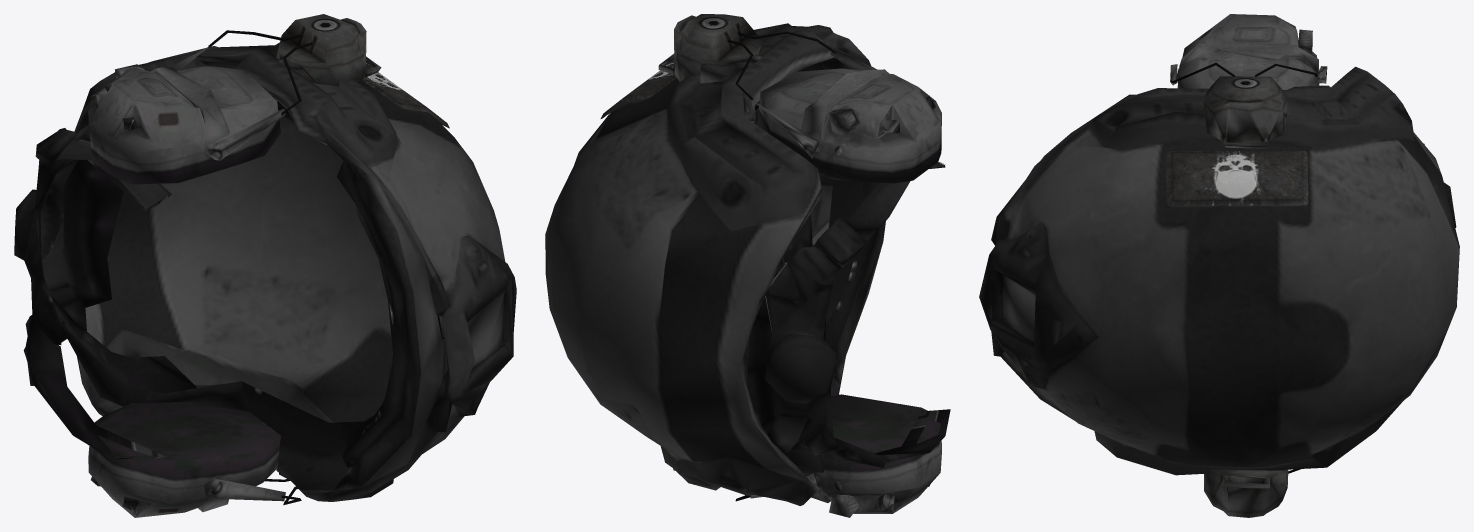
The model's file is F_TaskForceHelmet.fbx.
3 renders of one model, left to right at view 1: azimuth 30°, elevation 25°; view 2: azimuth 150°, elevation 25°; view 3: azimuth 270°, elevation 25°, orthographic. The views are drawn at different scales.
Visible parts, largest first — view 1: Headset Rail Adapters; view 2: Headset Rail Adapters; view 3: Headset Rail Adapters.
Boxes of the visible parts, x1,y1,x2,y2 form: Headset Rail Adapters: [14, 14, 516, 517]; Headset Rail Adapters: [545, 14, 950, 517]; Headset Rail Adapters: [979, 14, 1459, 517].
Size of the model in its own units: 0.1214 by 0.1432 by 0.1468.
